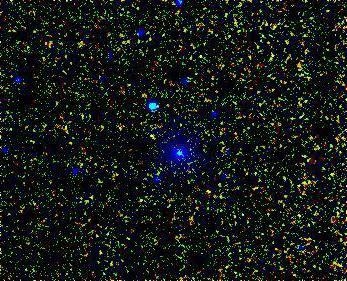star: (193, 172, 223, 202)
